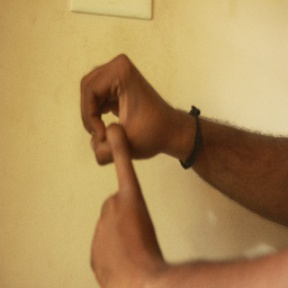Q: (63, 52, 177, 270)
